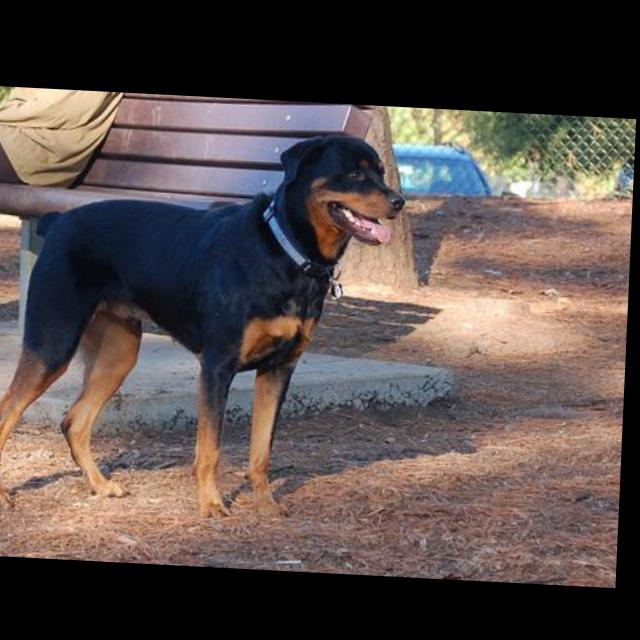rottweiler: (1, 114, 411, 527)
